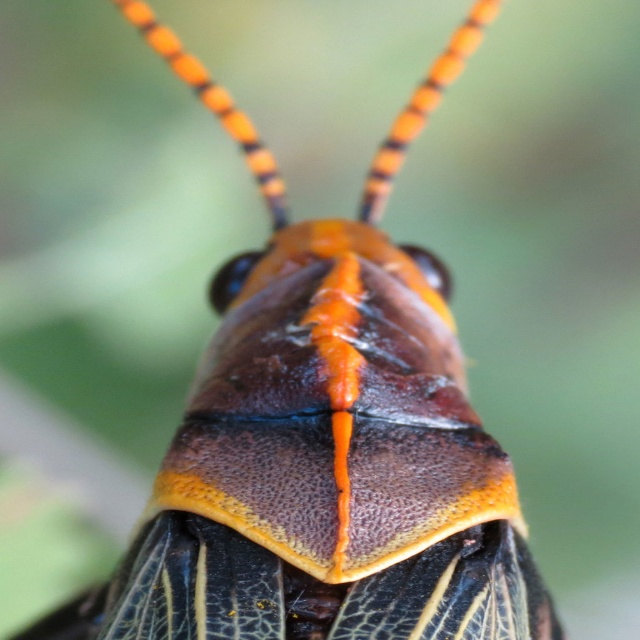Moths and butterflies: (5, 0, 566, 640)
